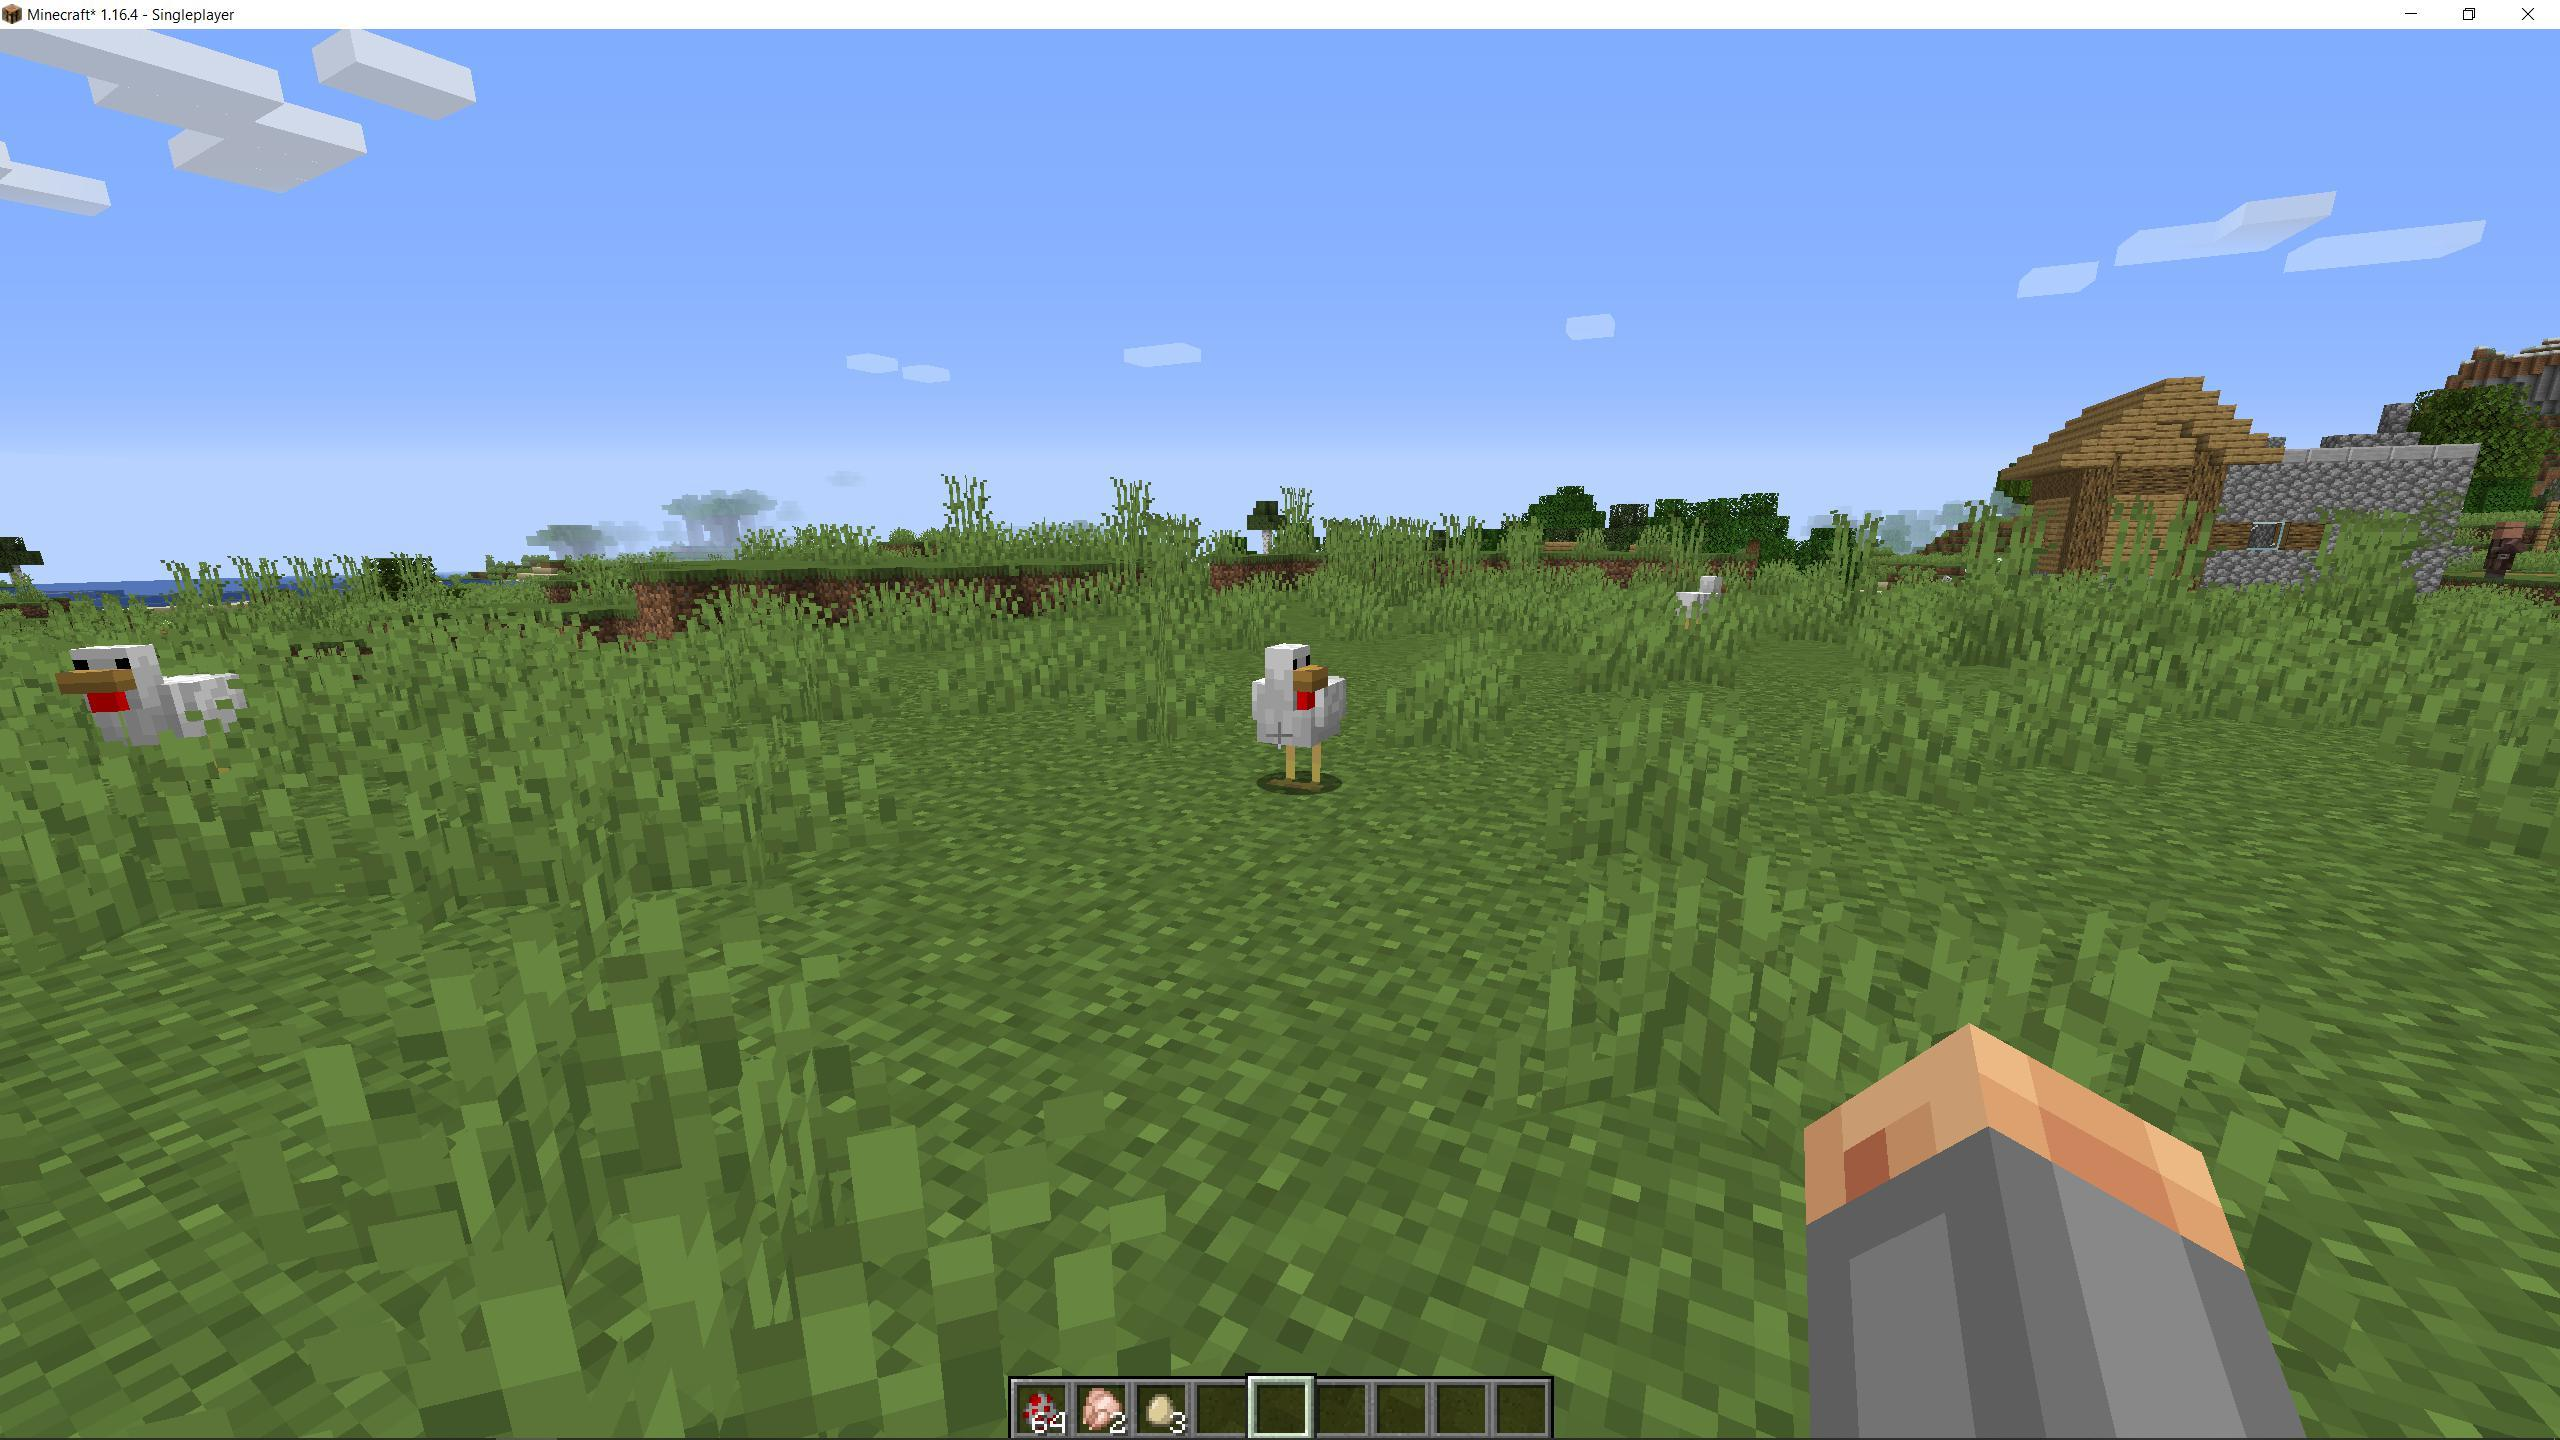chicken: (60, 636, 273, 795), (1240, 631, 1364, 811), (1669, 564, 1732, 668)
